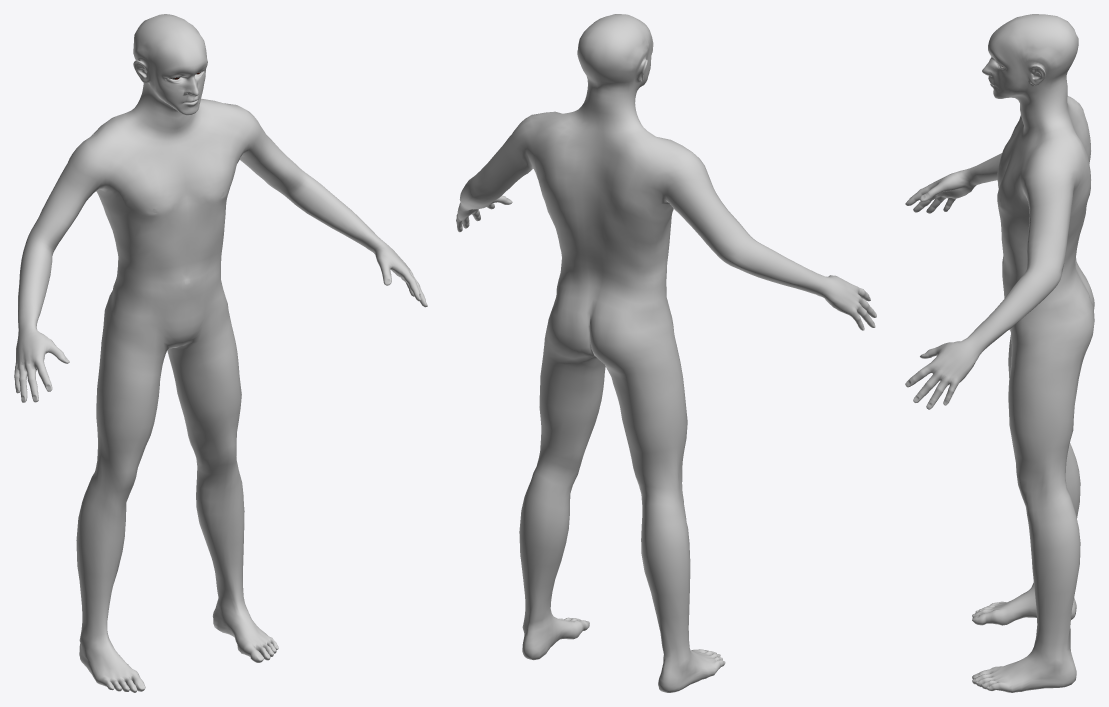
Rendered from head_base_v1.1_clay.glb.
3 views of the same model, side by side, from view 1: azimuth 30°, elevation 25°; view 2: azimuth 150°, elevation 25°; view 3: azimuth 270°, elevation 25° (orthographic).
Parts seen in each view (by area): view 1: body; view 2: body; view 3: body.
Part boxes in pixels (left/top/right/bottom): body: left=14, top=14, right=427, bottom=692; body: left=456, top=14, right=876, bottom=692; body: left=905, top=14, right=1094, bottom=692.
Size of the model in its own units: 1.11 by 1.67 by 0.4497.
3 materials, 2 textured.
